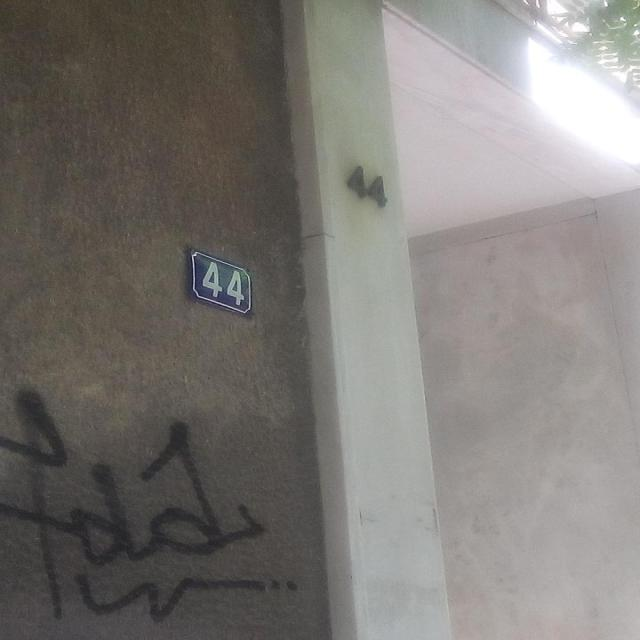nonspitting: (0, 389, 298, 619)
